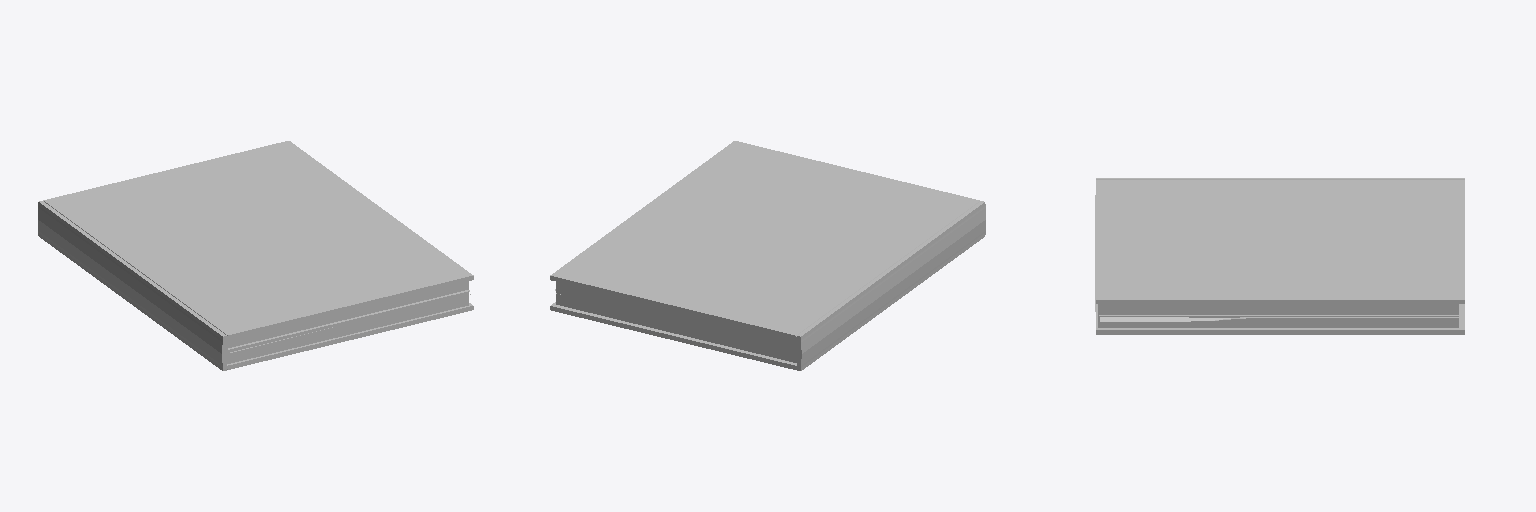
File: textbook_obj_v01.obj
The picture shows the model from 3 angles: view 1: azimuth 30°, elevation 25°; view 2: azimuth 150°, elevation 25°; view 3: azimuth 270°, elevation 25°; orthographic projection.
Visible parts, largest first — view 1: texkbook; view 2: texkbook; view 3: texkbook.
Boxes of the visible parts, box(x1,y1,x2,y2) form: texkbook: box(38, 141, 473, 370); texkbook: box(550, 141, 985, 370); texkbook: box(1095, 178, 1464, 334).
Bounding box in the file's own units: 22.42 × 2.95 × 28.45.